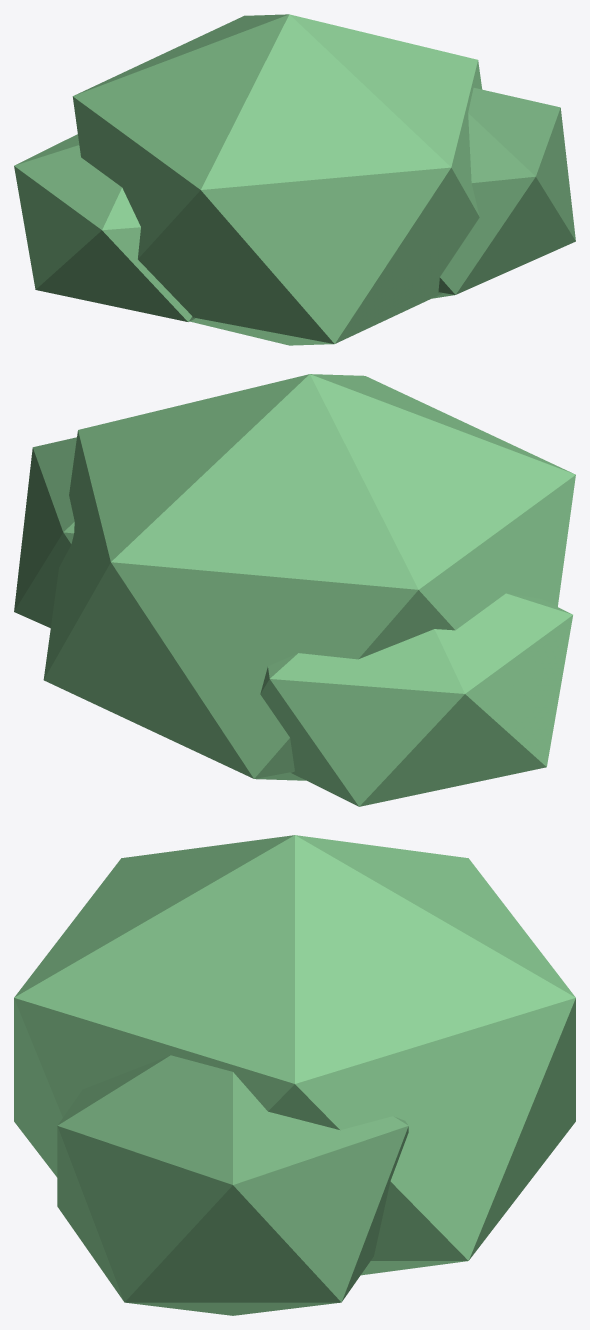
The model's file is hill.glb.
3 views of the same model, one above another, from view 1: azimuth 30°, elevation 25°; view 2: azimuth 150°, elevation 25°; view 3: azimuth 270°, elevation 25° (orthographic). The views are drawn at different scales.
Parts seen in each view (by area): view 1: JungleHill; view 2: JungleHill; view 3: JungleHill.
Part boxes in pixels (x1=…): JungleHill: x1=14, y1=14, x2=575, y2=345; JungleHill: x1=14, y1=374, x2=575, y2=806; JungleHill: x1=14, y1=835, x2=575, y2=1315.
Size of the model in its own units: 7.16 by 4.8 by 5.44.
